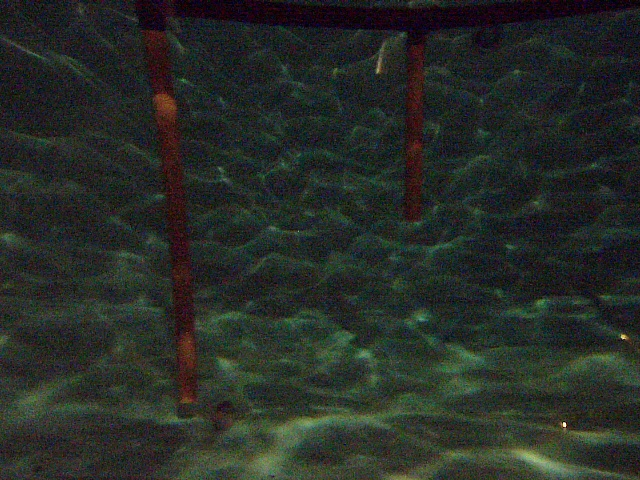Gate: (136, 16, 200, 403), (398, 34, 429, 216)
